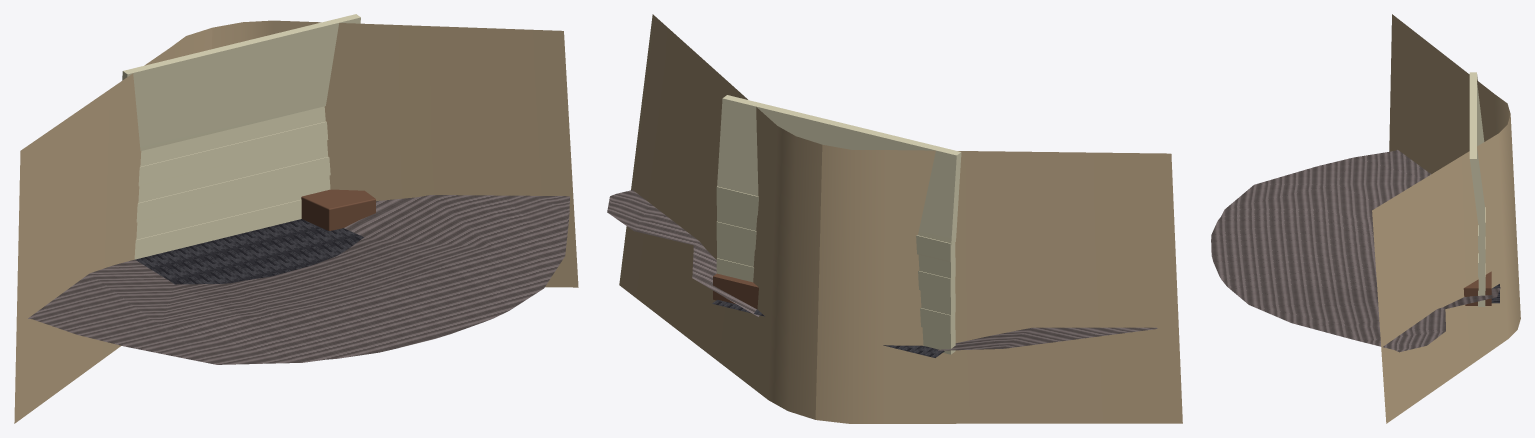
File: BuildInteriorAuditorio.fbx
3 views of the same model, side by side, from view 1: azimuth 30°, elevation 25°; view 2: azimuth 150°, elevation 25°; view 3: azimuth 270°, elevation 25° (orthographic). The views are drawn at different scales.
Visible parts, largest first — view 1: wallAuditorio, floorauditorium, pCube26, Floor_Audi, pCube101, pCube17, pCube100, pCube47, pCube41, pCube20, pCube63; view 2: wallAuditorio, pCube26, floorauditorium, pCube20, pCube41, pCube101, pCube100, pCube17, pCube63, pCube47, Floor_Audi; view 3: wallAuditorio, floorauditorium, pCube26, pCube63.
Part boxes in pixels (left/top/right/bottom): wallAuditorio: left=14, top=20, right=578, bottom=423; floorauditorium: left=28, top=195, right=569, bottom=364; pCube26: left=122, top=14, right=360, bottom=150; Floor_Audi: left=135, top=219, right=363, bottom=284; pCube101: left=136, top=157, right=330, bottom=222; pCube17: left=138, top=121, right=328, bottom=185; pCube100: left=136, top=175, right=330, bottom=239; pCube47: left=134, top=199, right=301, bottom=259; pCube41: left=138, top=140, right=328, bottom=202; pCube20: left=140, top=106, right=325, bottom=166; pCube63: left=301, top=189, right=375, bottom=230; wallAuditorio: left=619, top=14, right=1182, bottom=423; pCube26: left=717, top=95, right=961, bottom=244; floorauditorium: left=607, top=190, right=1157, bottom=350; pCube20: left=716, top=186, right=955, bottom=262; pCube41: left=716, top=221, right=955, bottom=297; pCube101: left=717, top=240, right=955, bottom=315; pCube100: left=716, top=258, right=955, bottom=333; pCube17: left=717, top=205, right=955, bottom=279; pCube63: left=713, top=273, right=758, bottom=309; pCube47: left=922, top=327, right=955, bottom=354; Floor_Audi: left=712, top=299, right=944, bottom=357; wallAuditorio: left=1372, top=14, right=1520, bottom=423; floorauditorium: left=1211, top=150, right=1500, bottom=352; pCube26: left=1469, top=72, right=1485, bottom=223; pCube63: left=1463, top=271, right=1491, bottom=305.
Bounding box in the file's own units: 2086 × 954 × 1307.
